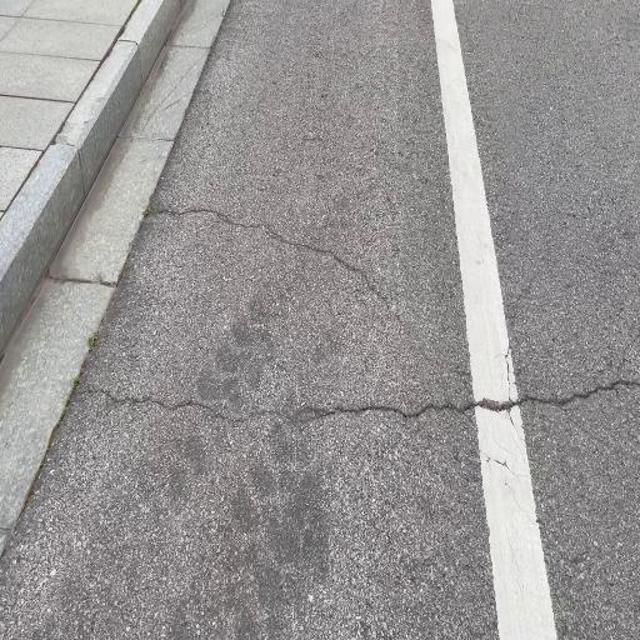Melintang: (137, 193, 430, 343), (59, 365, 640, 439)
